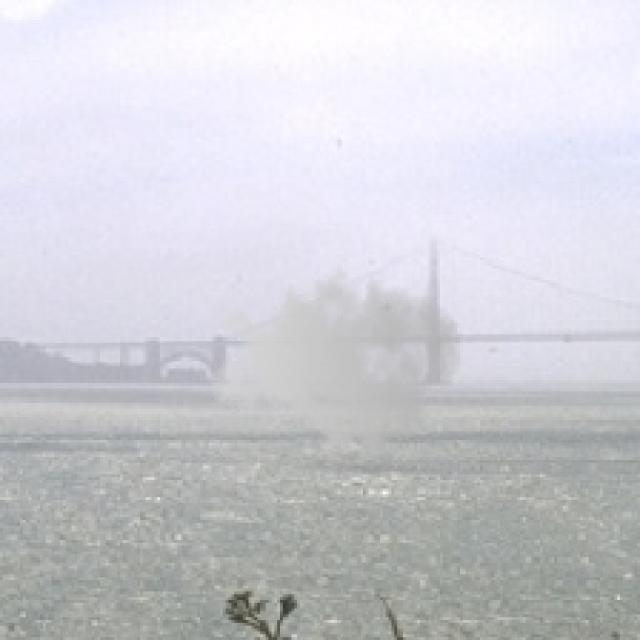Smoke: (208, 254, 463, 463)
